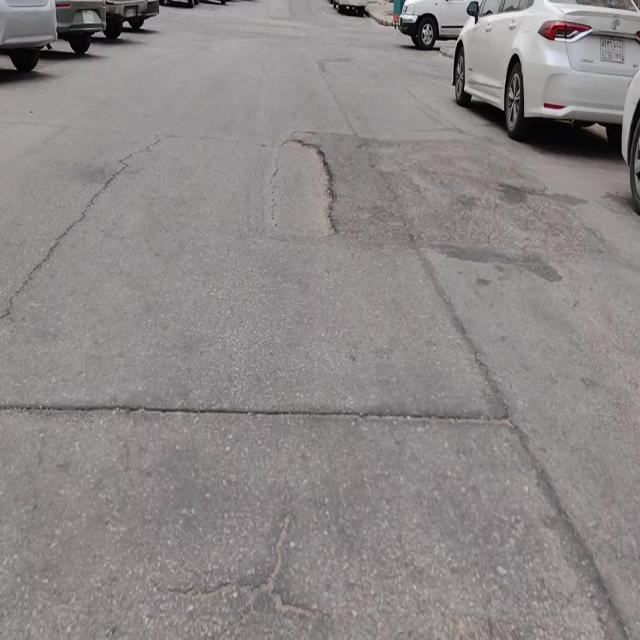Pothole: (269, 136, 340, 240)
